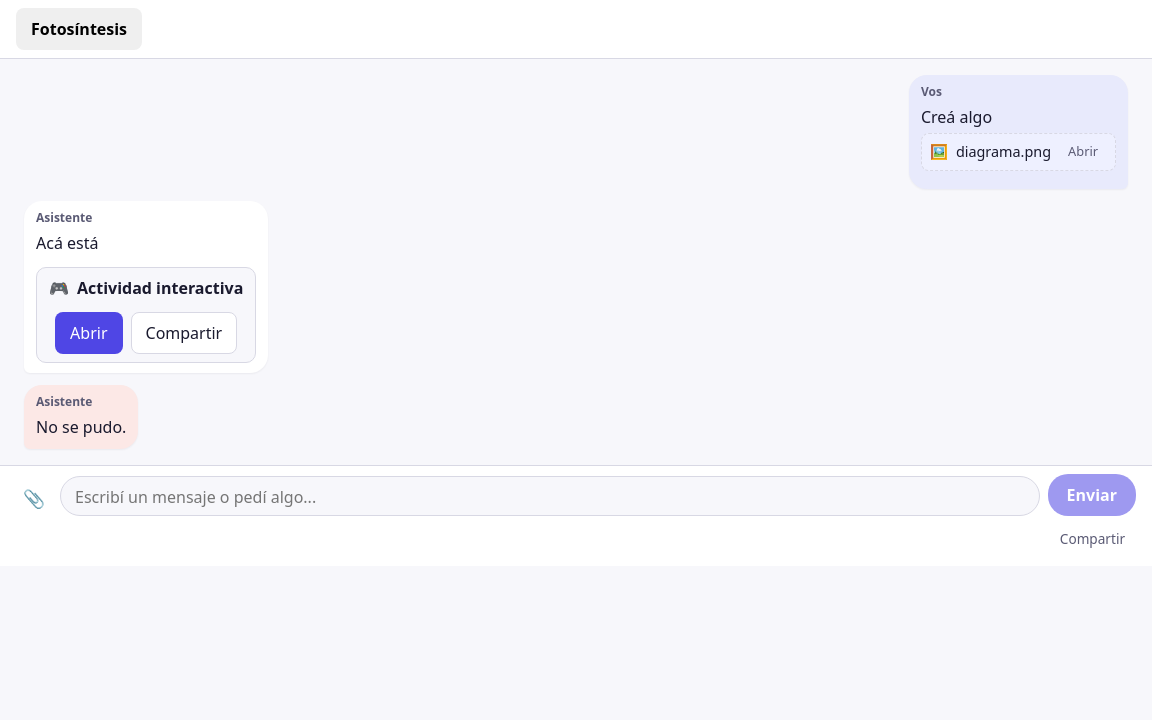
WorkspaceView › does not restore the submitted draft when only the post-accept refresh fails
Type "mensaje único" into the text box named "Pedido a la IA".
click(550, 496); type("mensaje único")  # box [60,476,1040,516]
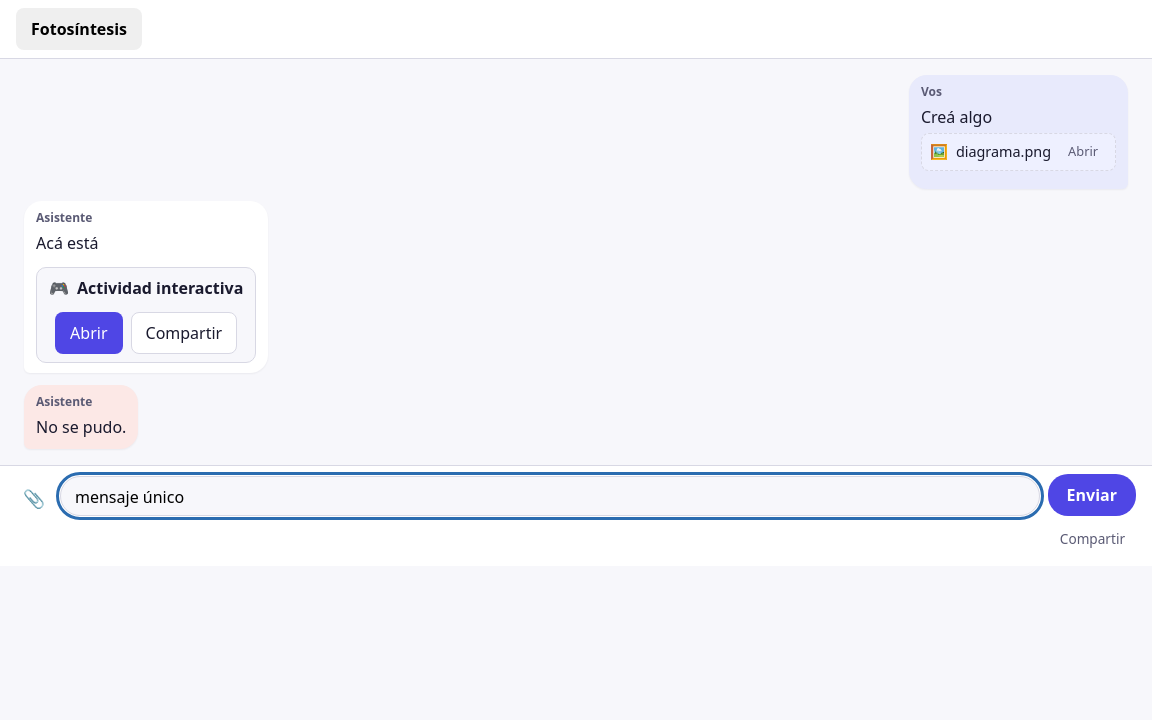
Click the button "Enviar".
click(1092, 495)  # box [1048,474,1136,516]
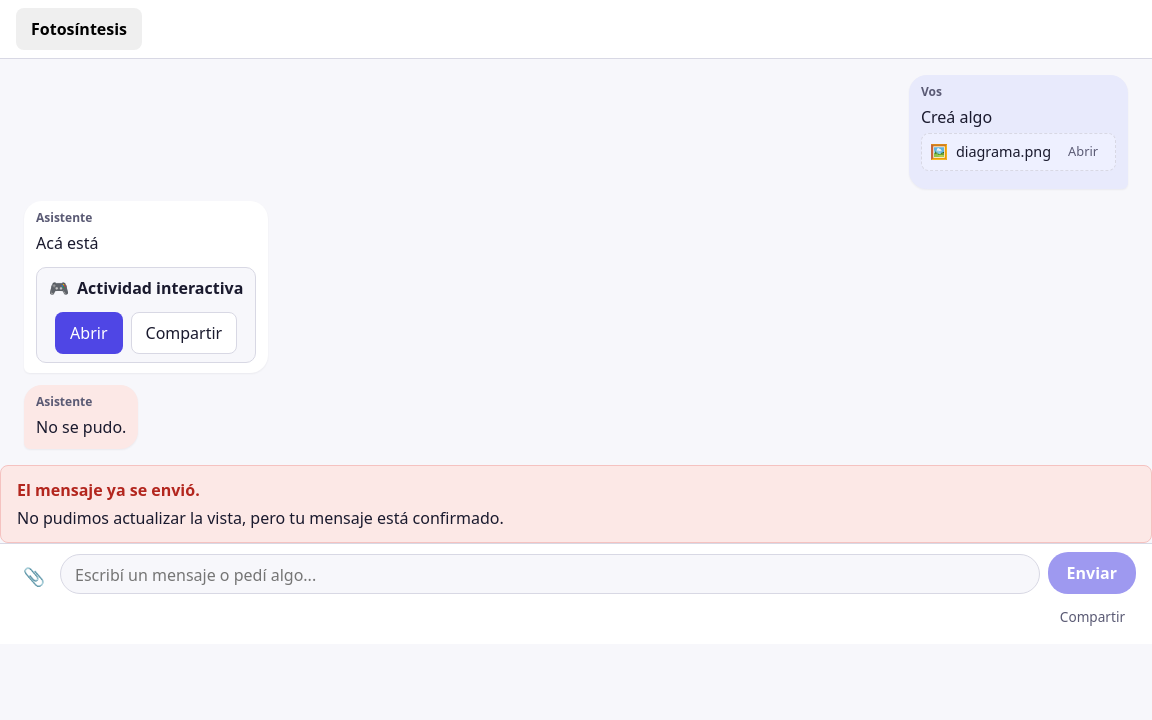
Now the text box named "Pedido a la IA" is empty, box [60,554,1040,594]
Now the text "El mensaje ya se envió." is shown, box [17,479,200,501]
Now the text "No pudimos actualizar la vista, pero tu mensaje está confirmado." is shown, box [17,507,504,529]
